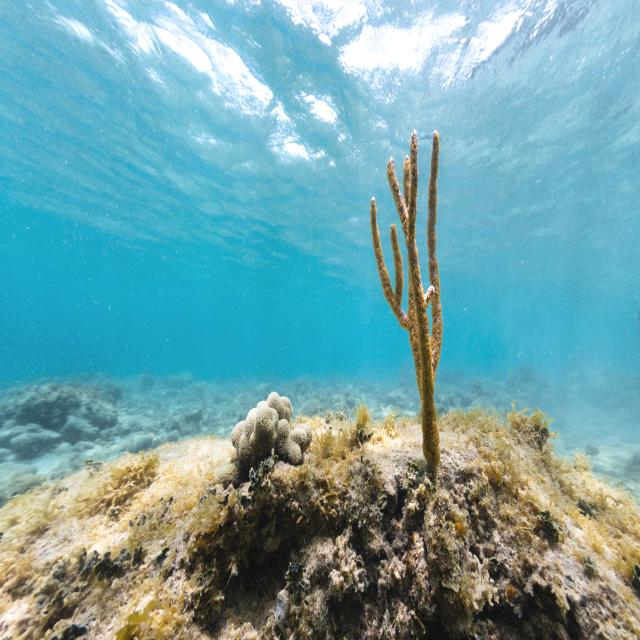Coral: (370, 129, 442, 473), (216, 392, 312, 488)
